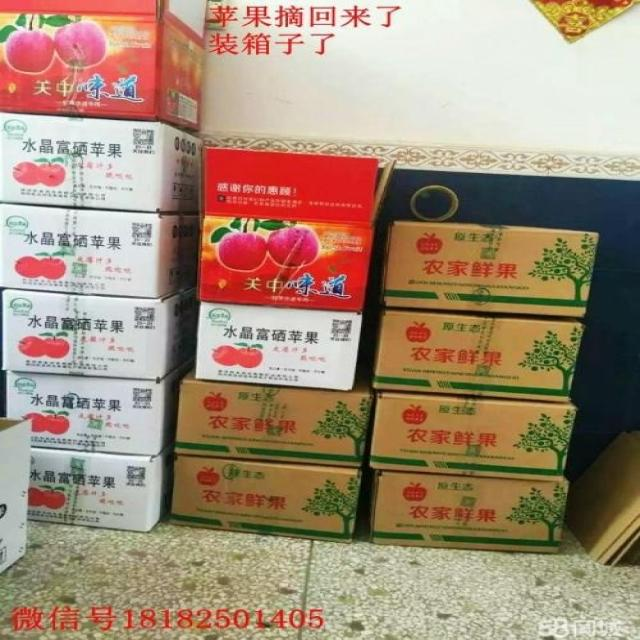box: (194, 149, 396, 311), (0, 0, 209, 132), (172, 358, 375, 468), (380, 222, 596, 324), (0, 114, 204, 213), (375, 308, 580, 401), (0, 285, 195, 381), (0, 204, 197, 299), (367, 393, 571, 483), (357, 472, 569, 554), (163, 456, 359, 542), (0, 370, 180, 454), (196, 303, 360, 390), (29, 449, 172, 533), (0, 417, 33, 572)
